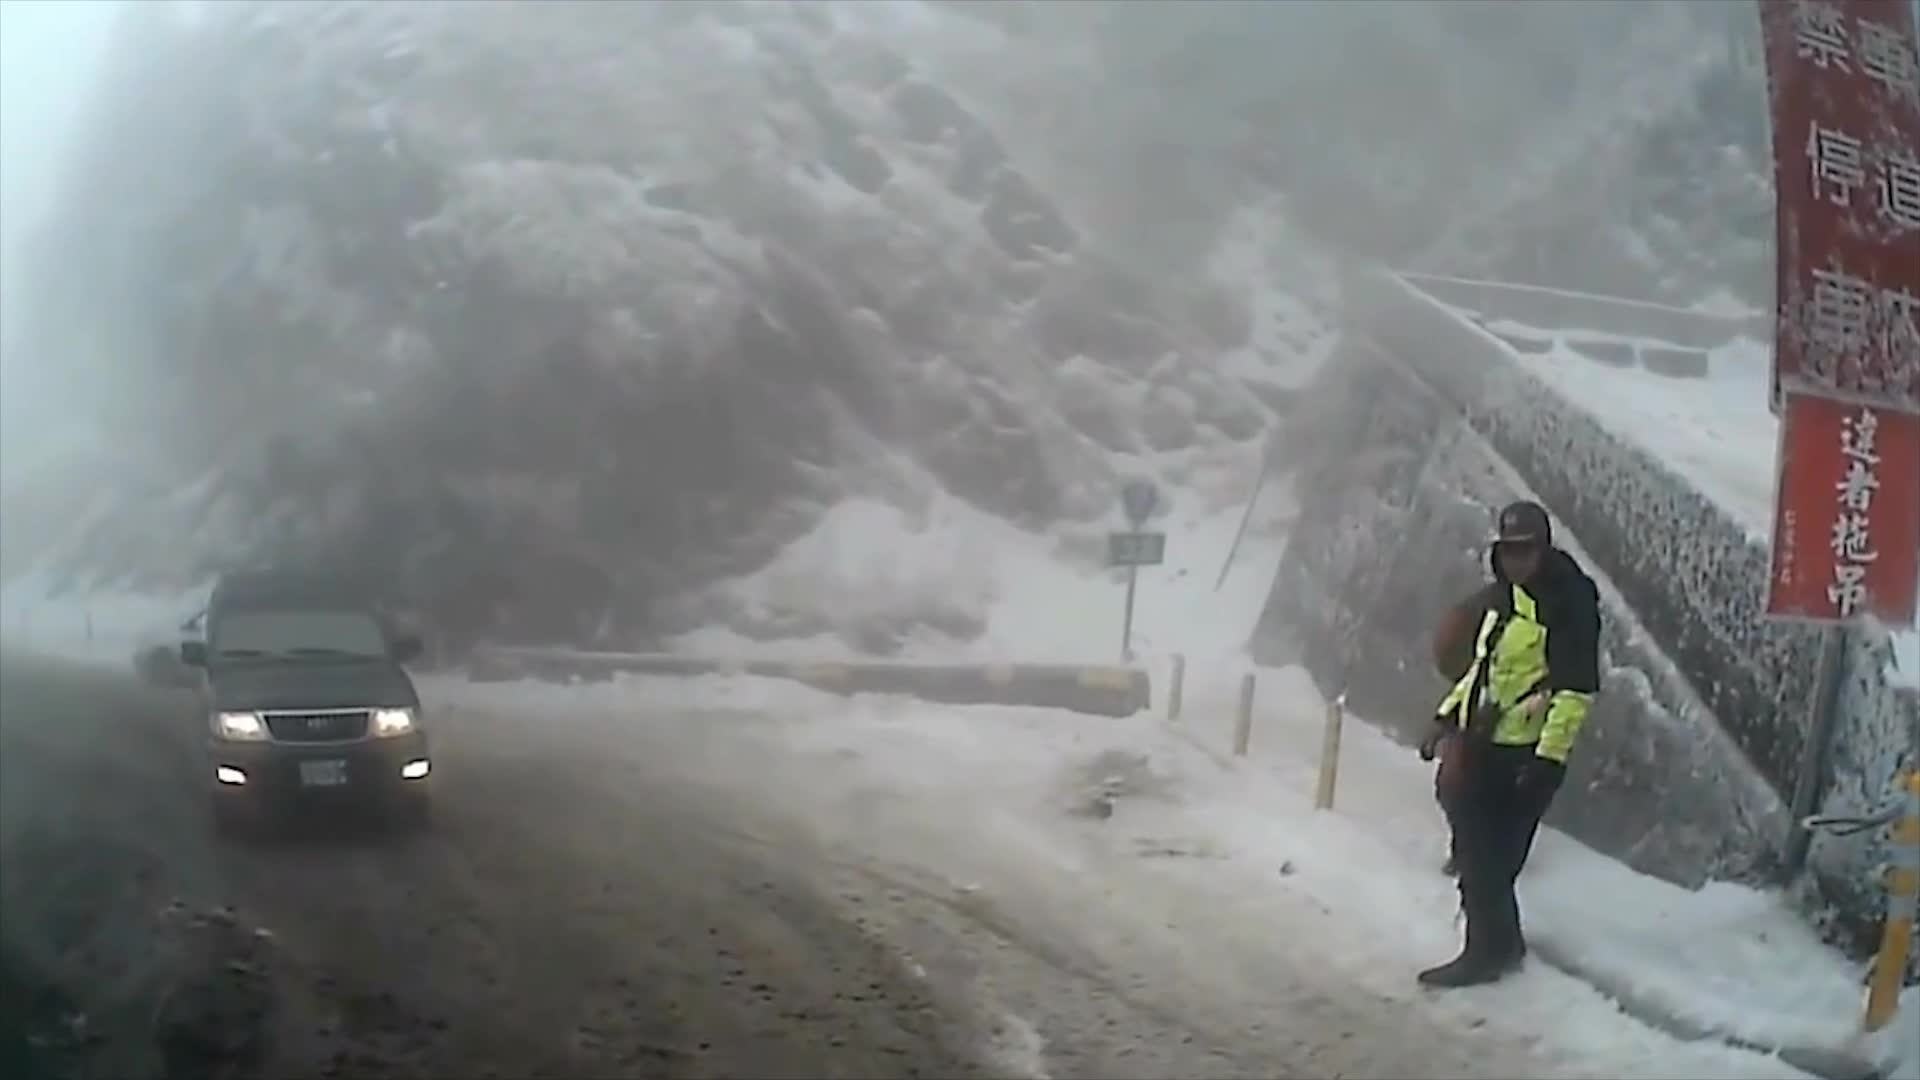pedestrian: (1413, 506, 1601, 997)
vehicle: (177, 572, 431, 837)
